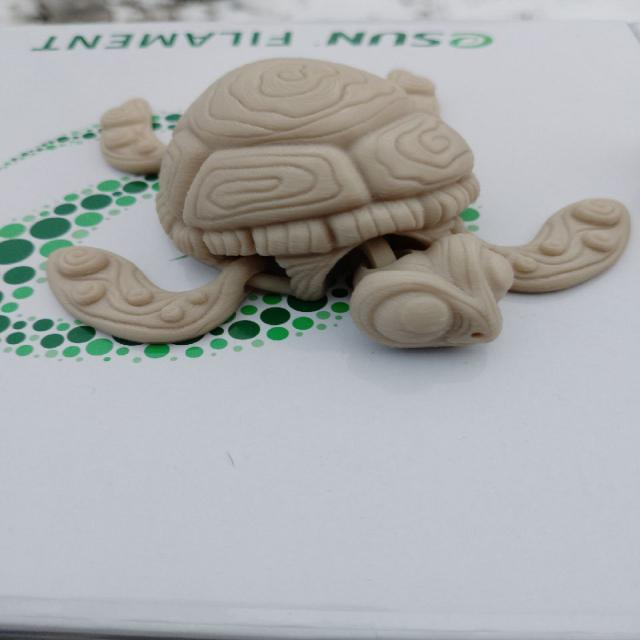Without deffect: (62, 47, 640, 397)
